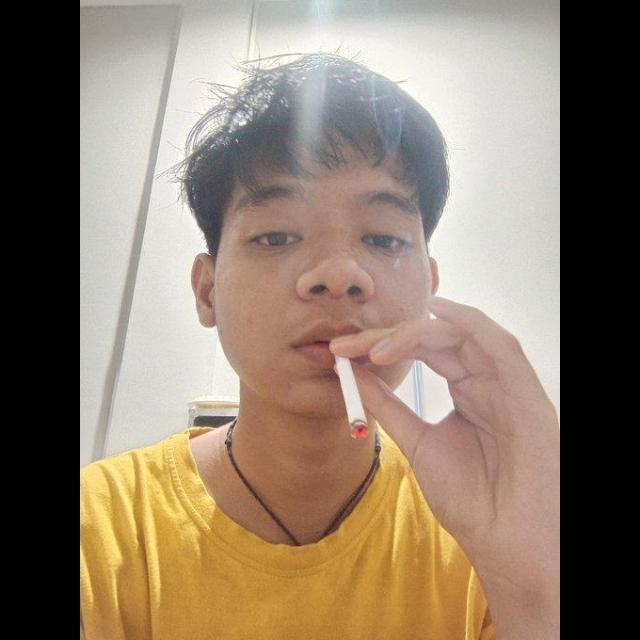rokok: (326, 337, 372, 441)
